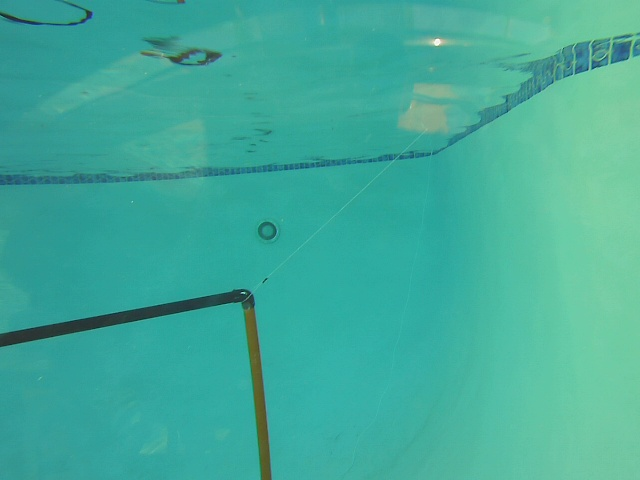Gate: (238, 305, 274, 480)
